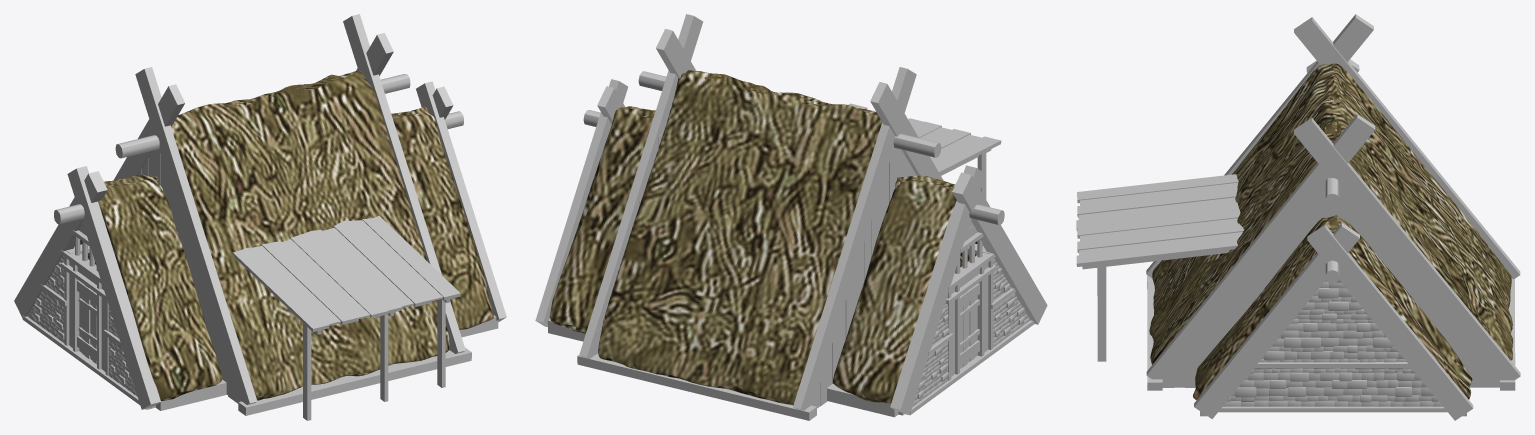
File: lowpoly_viking_house_008.fbx
The picture shows the model from 3 angles, left to right: view 1: azimuth 30°, elevation 25°; view 2: azimuth 150°, elevation 25°; view 3: azimuth 270°, elevation 25°; orthographic projection. The views are drawn at different scales.
Visible parts, largest first — view 1: Plane.017, Cube.2884, Cube.2875, Cube.2868, Cube.019, Cube.2911, Cube.2891, Cube.2951, Cube.2928, Cube.2945, Cube.2950, Cube.2948 (+21 smaller); view 2: Plane.017, Cube.2874, Cube.2891, Cube.2869, Cube.2875, Cube.2905, Cube.2910, Cube.020, Cube.2884, Cube.2866, Wall.058, Cube.2867 (+10 smaller); view 3: Plane.017, Wall.087, Cube.2869, Cube.2868, Cube.2910, Cube.2911, Cube.2926, Cube.2874, Cube.2927, Cube.2943, Cube.2884, Cube.2945 (+14 smaller).
Boxes of the visible parts, x1,y1,x2,y2 form: Plane.017: [80, 71, 493, 400]; Cube.2884: [135, 67, 257, 404]; Cube.2875: [67, 166, 160, 409]; Cube.2868: [343, 14, 465, 353]; Cube.019: [238, 347, 471, 415]; Cube.2911: [416, 81, 506, 321]; Cube.2891: [14, 171, 107, 317]; Cube.2951: [233, 247, 329, 331]; Cube.2928: [160, 154, 250, 403]; Cube.2945: [334, 220, 431, 306]; Cube.2950: [290, 233, 387, 318]; Cube.2948: [262, 241, 358, 324]; Plane.017: [549, 70, 982, 405]; Cube.2874: [793, 67, 916, 410]; Cube.2891: [890, 165, 985, 415]; Cube.2869: [579, 14, 703, 358]; Cube.2875: [952, 172, 1047, 324]; Cube.2905: [813, 147, 896, 408]; Cube.2910: [535, 79, 627, 326]; Cube.020: [577, 353, 816, 420]; Cube.2884: [870, 82, 943, 180]; Cube.2866: [960, 283, 979, 368]; Wall.058: [993, 293, 1030, 347]; Cube.2867: [638, 71, 941, 157]; Plane.017: [1149, 63, 1512, 400]; Wall.087: [1223, 279, 1442, 406]; Cube.2869: [1294, 118, 1520, 385]; Cube.2868: [1146, 114, 1375, 387]; Cube.2910: [1307, 224, 1473, 420]; Cube.2911: [1194, 223, 1359, 418]; Cube.2926: [1162, 191, 1331, 387]; Cube.2874: [1294, 17, 1520, 278]; Cube.2927: [1332, 189, 1499, 387]; Cube.2943: [1076, 237, 1238, 266]; Cube.2884: [1146, 14, 1373, 278]; Cube.2945: [1077, 223, 1243, 252].
Size of the model in its own units: 6.57 by 4.25 by 6.28.
